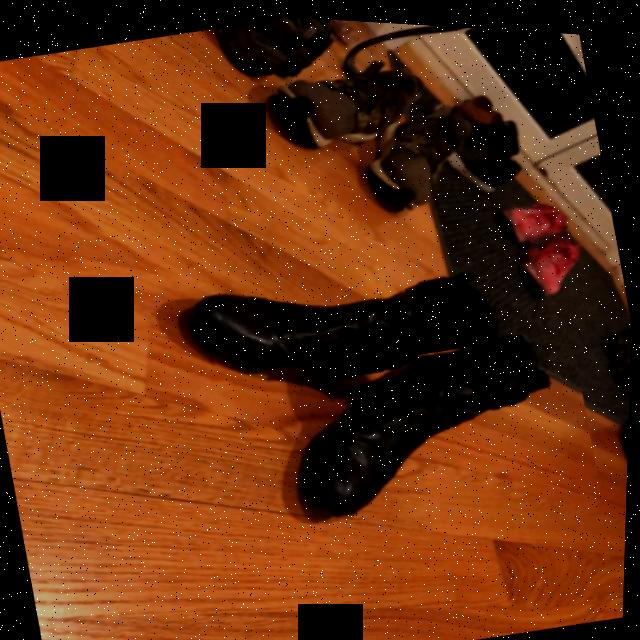shoe: (313, 326, 582, 520), (204, 268, 498, 360)
